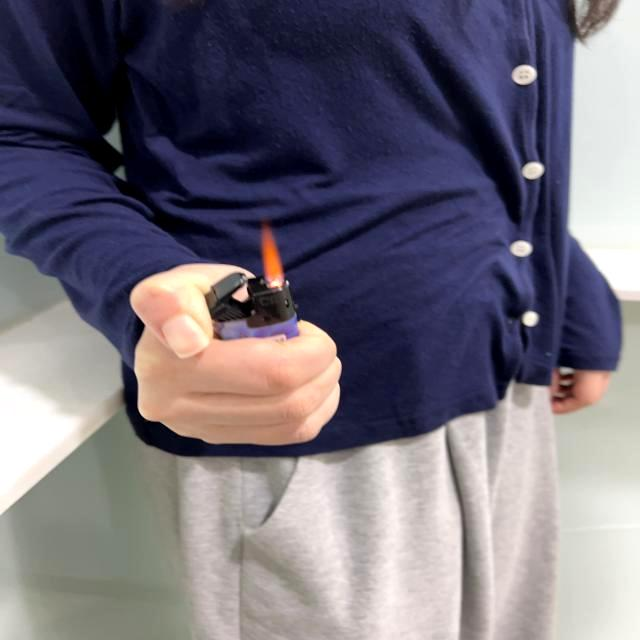fire: (255, 218, 285, 290)
